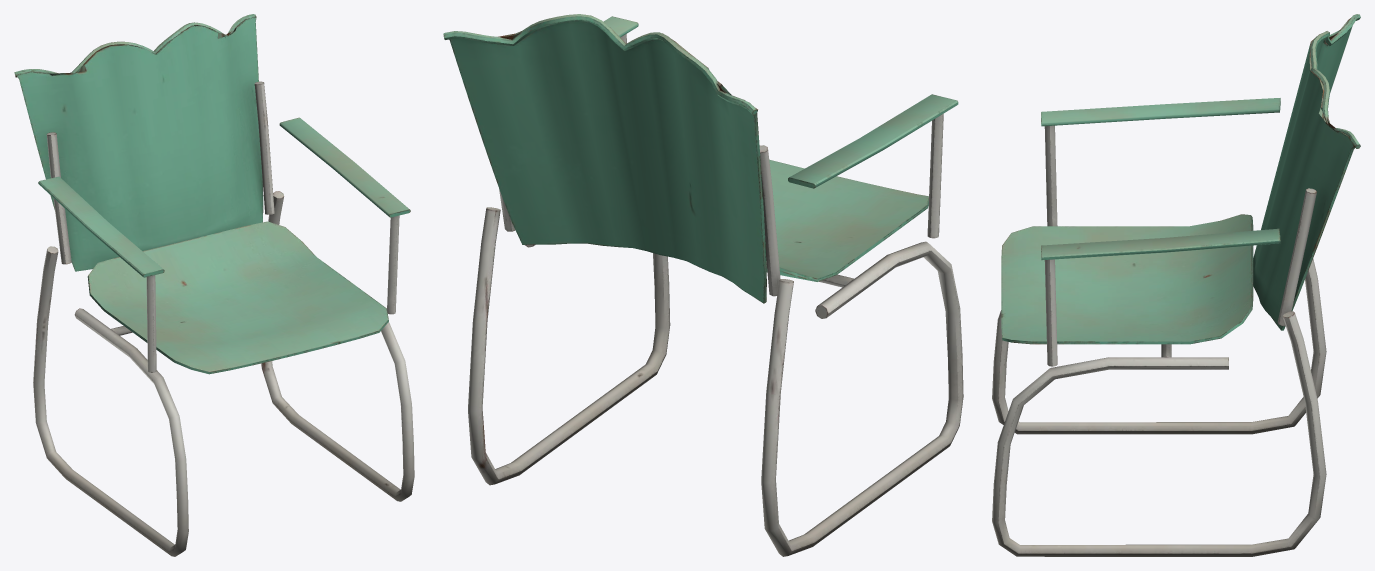
File: patio_chair.glb
3 views of the same model, side by side, from view 1: azimuth 30°, elevation 25°; view 2: azimuth 150°, elevation 25°; view 3: azimuth 270°, elevation 25° (orthographic). The views are drawn at different scales.
Parts seen in each view (by area): view 1: patio_chair; view 2: patio_chair; view 3: patio_chair.
Part boxes in pixels (x1,y1,x2,y2): patio_chair: [14, 14, 414, 556]; patio_chair: [443, 14, 963, 556]; patio_chair: [992, 14, 1360, 556].
Bounding box in the file's own units: 0.604 × 0.8566 × 0.6484.
2 materials, 2 textured.
